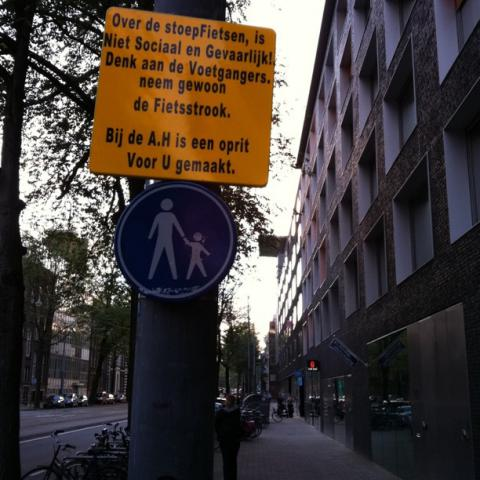car: (43, 394, 66, 409), (96, 392, 115, 405), (62, 394, 77, 407), (77, 394, 89, 407), (114, 393, 127, 403)
